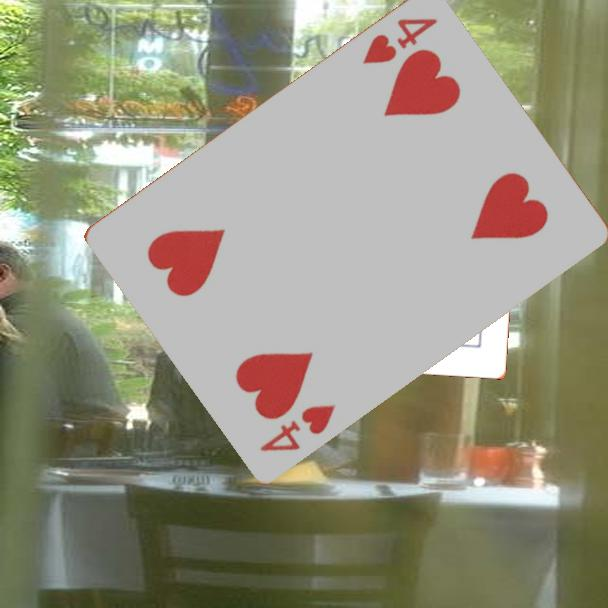h04: (256, 399, 339, 454), (358, 13, 441, 67)
